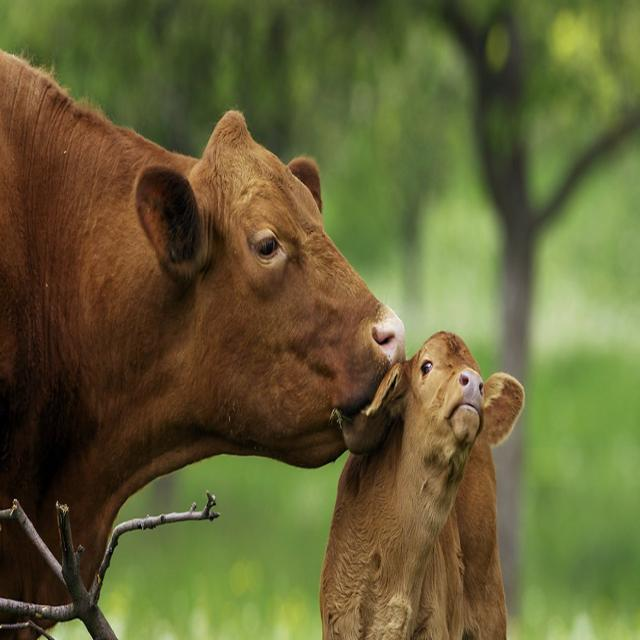cow: (181, 124, 375, 446), (398, 291, 523, 553)
